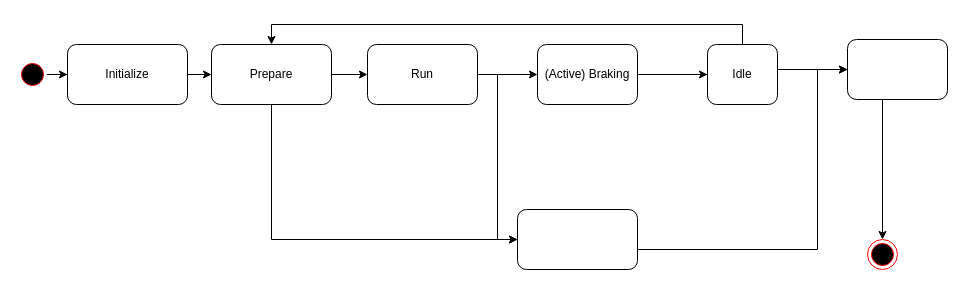
Image size: 973x287. Some labels were removed from this diagram. The shapes that lost their labels are listed below. From the top down, each one's centre as x and y in pixels, then its label:
At [897,69]: "Shutdown".
At [577,239]: "Emergency (Insufficient Power)".
